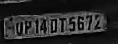1: (33, 18, 40, 38)
2: (93, 12, 102, 32)
4: (40, 17, 48, 36)
5: (68, 14, 76, 32)
6: (77, 14, 85, 31)
7: (84, 13, 93, 32)
D: (49, 16, 58, 34)
P: (24, 19, 32, 36)
T: (58, 15, 67, 33)
U: (15, 21, 24, 39)
